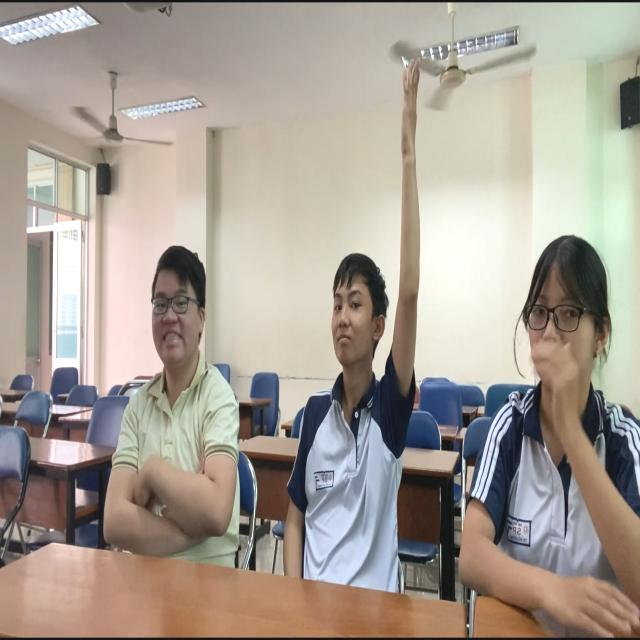raise_hand: (276, 43, 442, 609), (474, 224, 640, 640)
